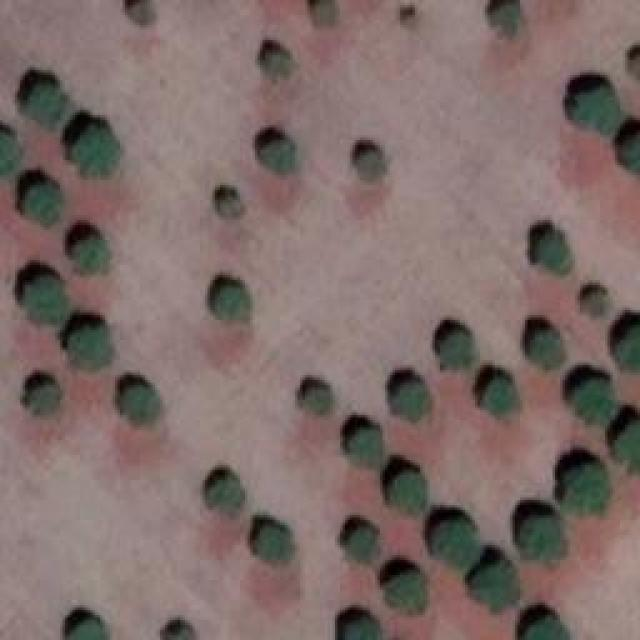Tree: (20, 270, 73, 325), (467, 558, 515, 611), (575, 83, 620, 136), (565, 458, 608, 511), (433, 515, 476, 568), (67, 325, 115, 370), (383, 567, 426, 615), (75, 122, 115, 170), (388, 467, 428, 515), (578, 375, 613, 428), (252, 520, 290, 568), (522, 510, 560, 558), (25, 80, 65, 125), (23, 183, 63, 226), (70, 233, 110, 276), (537, 230, 575, 275), (525, 325, 563, 370), (482, 378, 520, 423), (125, 377, 160, 425), (435, 333, 473, 373), (393, 378, 428, 418), (615, 320, 640, 375), (615, 418, 640, 473), (348, 430, 383, 468), (518, 615, 571, 640), (210, 478, 243, 518), (218, 282, 251, 320), (345, 525, 380, 560), (263, 135, 293, 173), (343, 612, 383, 640), (0, 127, 22, 172), (30, 385, 60, 418), (358, 150, 388, 180), (67, 617, 104, 640), (130, 0, 158, 30), (490, 0, 518, 30), (585, 285, 608, 318), (268, 45, 293, 75), (625, 133, 640, 183), (303, 385, 328, 415), (220, 187, 245, 215), (165, 620, 195, 640), (313, 0, 333, 25)
